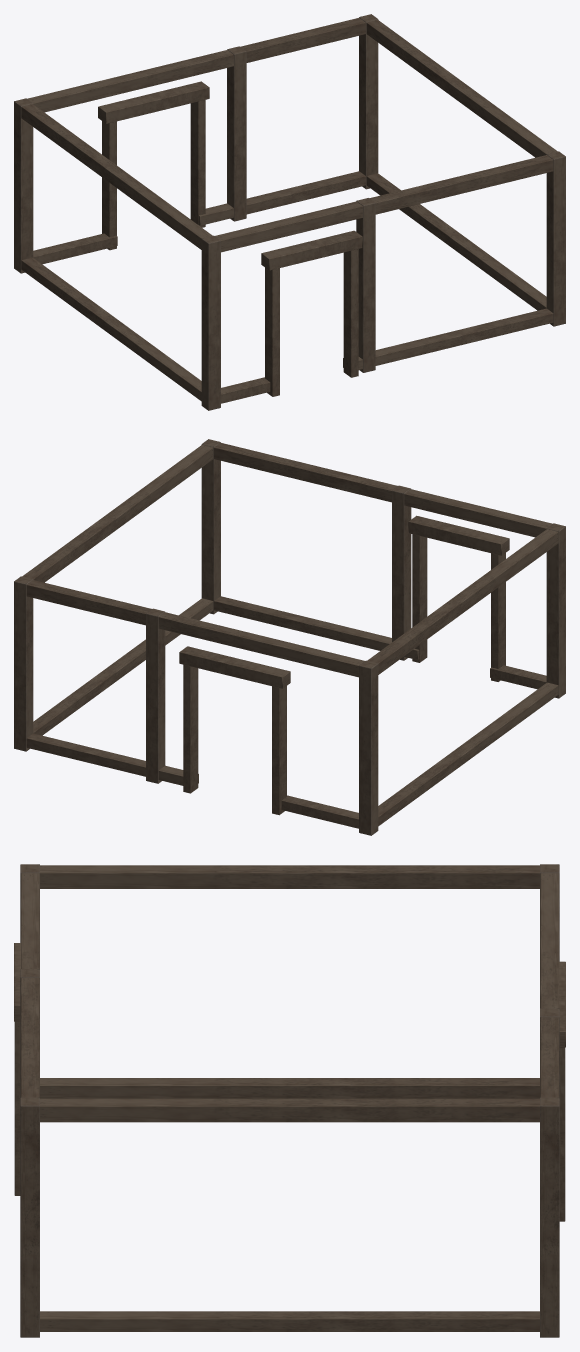
Rendered from BW_Merchant01_Timber.fbx.
3 renders of one model, top to bottom at view 1: azimuth 30°, elevation 25°; view 2: azimuth 150°, elevation 25°; view 3: azimuth 270°, elevation 25°, orthographic. The views are drawn at different scales.
Visible parts, largest first — view 1: BW_Merchant01_Timber; view 2: BW_Merchant01_Timber; view 3: BW_Merchant01_Timber.
Part boxes in pixels (x1,y1,x2,y2): BW_Merchant01_Timber: (14,14,565,410); BW_Merchant01_Timber: (14,439,565,835); BW_Merchant01_Timber: (14,864,565,1337).
Size of the model in its own units: 7.05 by 3.15 by 6.8.
